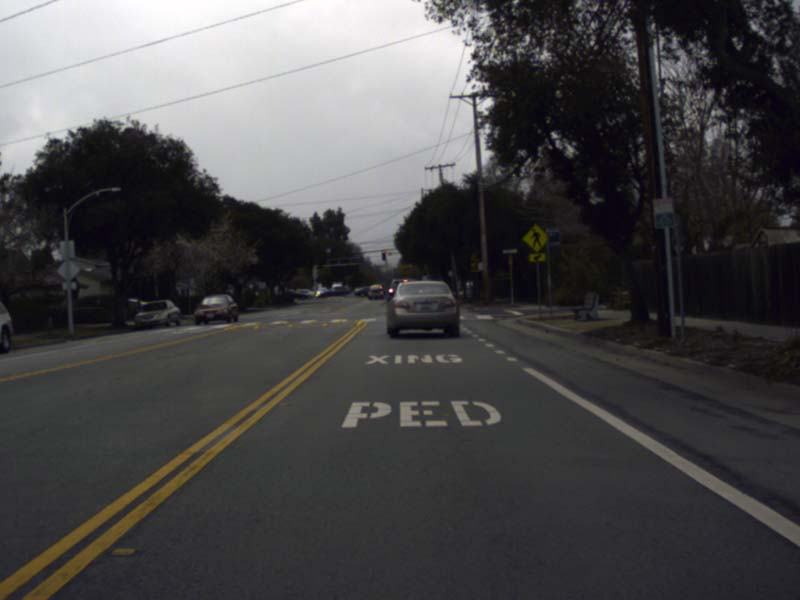Red: (381, 249, 386, 260)
